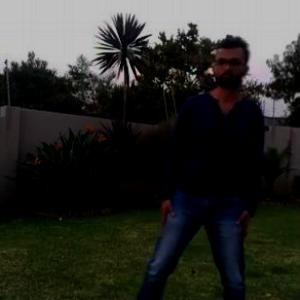follow: (167, 34, 265, 294)
